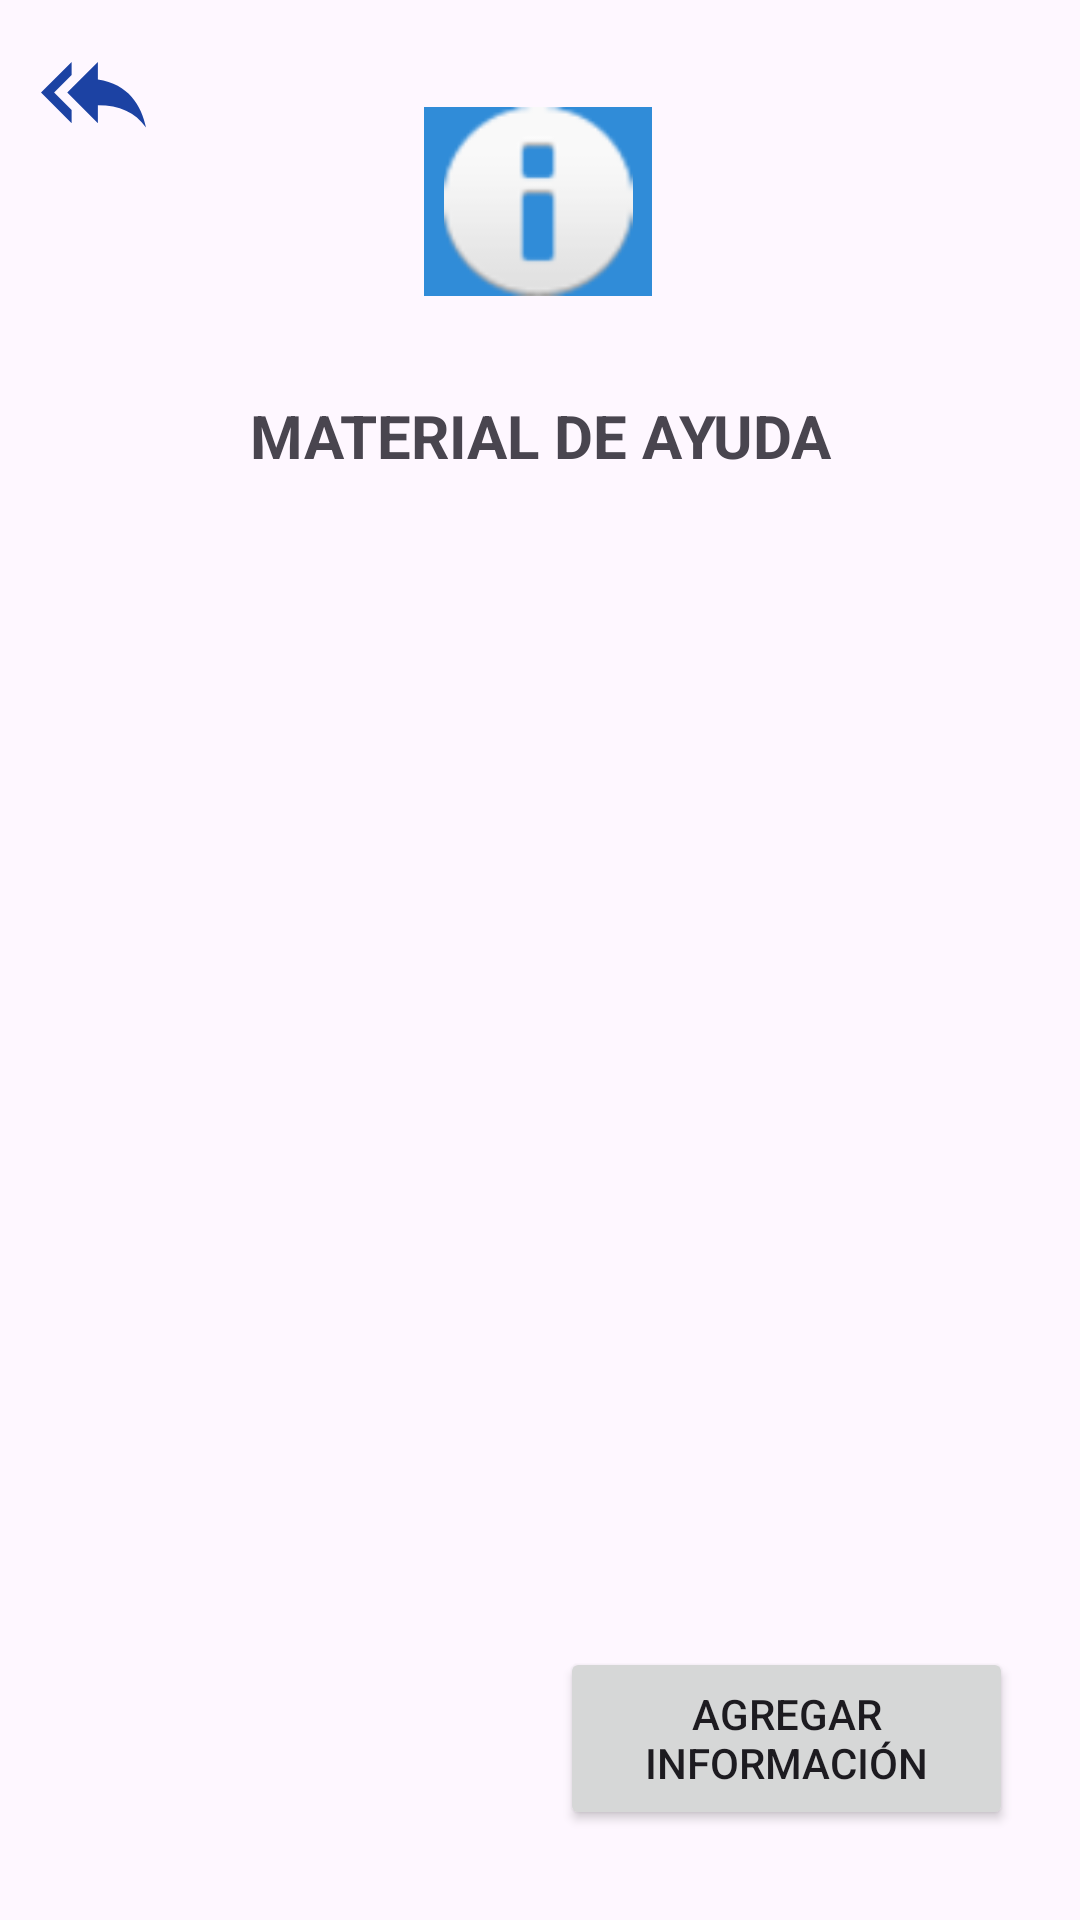

Screen size 1080x1920. Icon name, then its box in pixels as bbox=(x1, y1, x2, y2):
backimage: bbox=(41, 62, 146, 127)
info: bbox=(424, 107, 652, 296)
